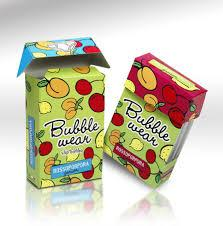Cardboard: (104, 42, 212, 193), (13, 36, 104, 204)
